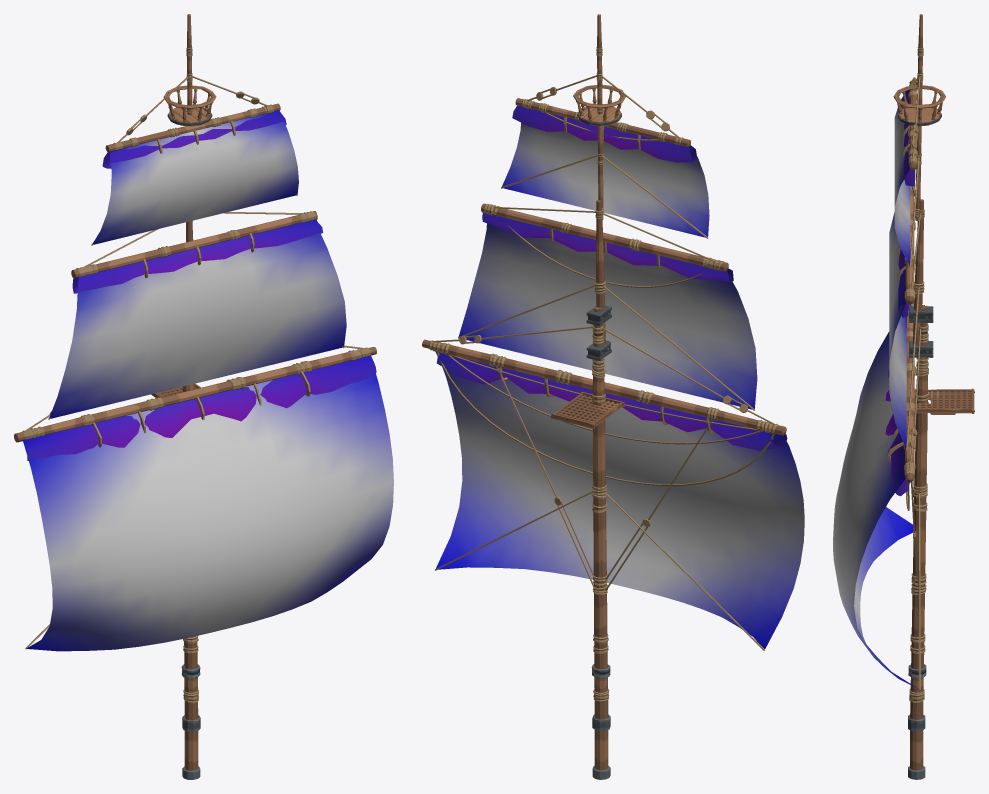
File: SM_Veh_Ship_L_Mast_Middle_01.fbx
The picture shows the model from 3 angles, left to right: view 1: azimuth 30°, elevation 25°; view 2: azimuth 150°, elevation 25°; view 3: azimuth 270°, elevation 25°; orthographic projection.
Visible parts, largest first — view 1: SM_Veh_Ship_L_Mast_Middle_01_Boom_01, SM_Veh_Ship_L_Mast_Middle_01; view 2: SM_Veh_Ship_L_Mast_Middle_01_Boom_01, SM_Veh_Ship_L_Mast_Middle_01; view 3: SM_Veh_Ship_L_Mast_Middle_01_Boom_01, SM_Veh_Ship_L_Mast_Middle_01.
Part boxes in pixels (x1=…): SM_Veh_Ship_L_Mast_Middle_01_Boom_01: x1=23, y1=110, x2=393, y2=651; SM_Veh_Ship_L_Mast_Middle_01: x1=14, y1=14, x2=376, y2=779; SM_Veh_Ship_L_Mast_Middle_01_Boom_01: x1=435, y1=105, x2=804, y2=650; SM_Veh_Ship_L_Mast_Middle_01: x1=422, y1=14, x2=786, y2=779; SM_Veh_Ship_L_Mast_Middle_01_Boom_01: x1=833, y1=90, x2=920, y2=689; SM_Veh_Ship_L_Mast_Middle_01: x1=893, y1=14, x2=974, y2=779.
Size of the model in its own units: 2137 by 4293 by 724.
